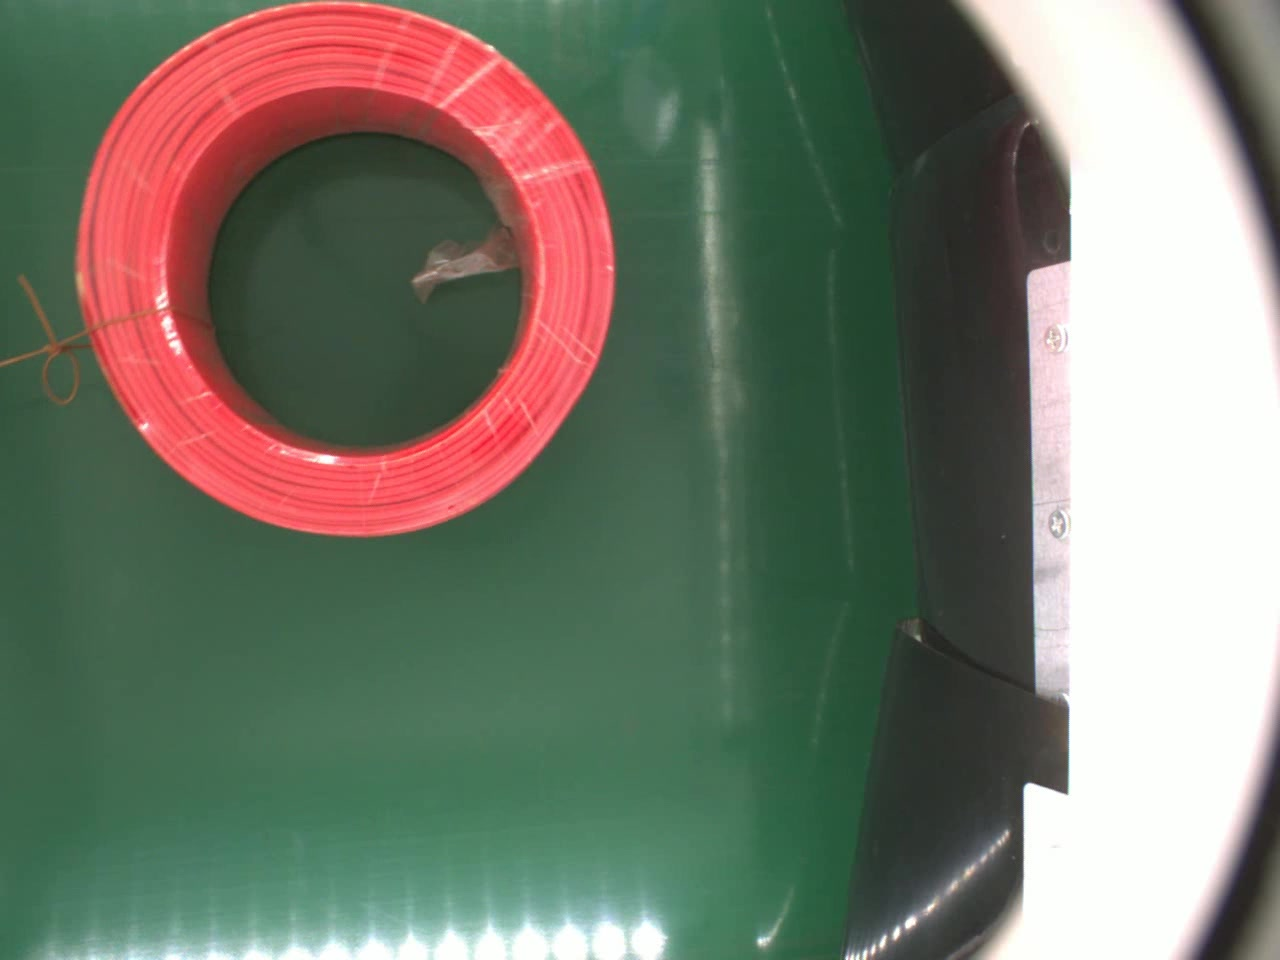red: (74, 0, 616, 538)
